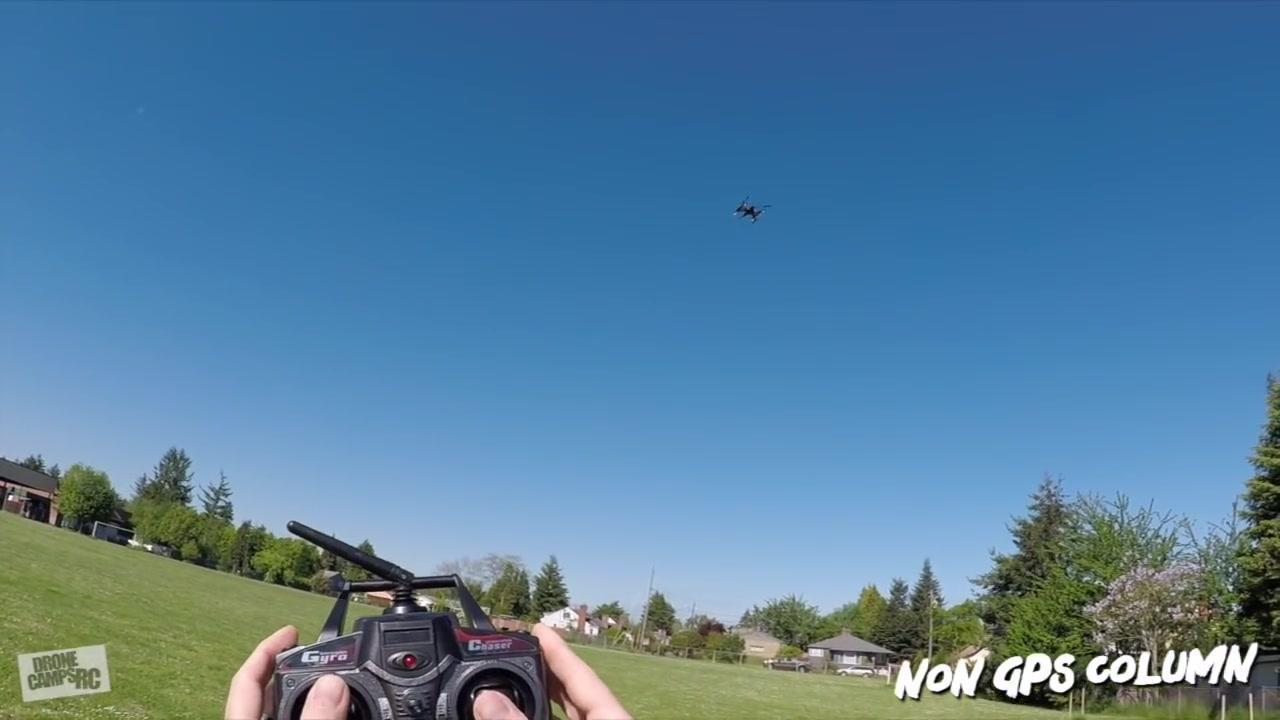UAV: (733, 197, 773, 225)
